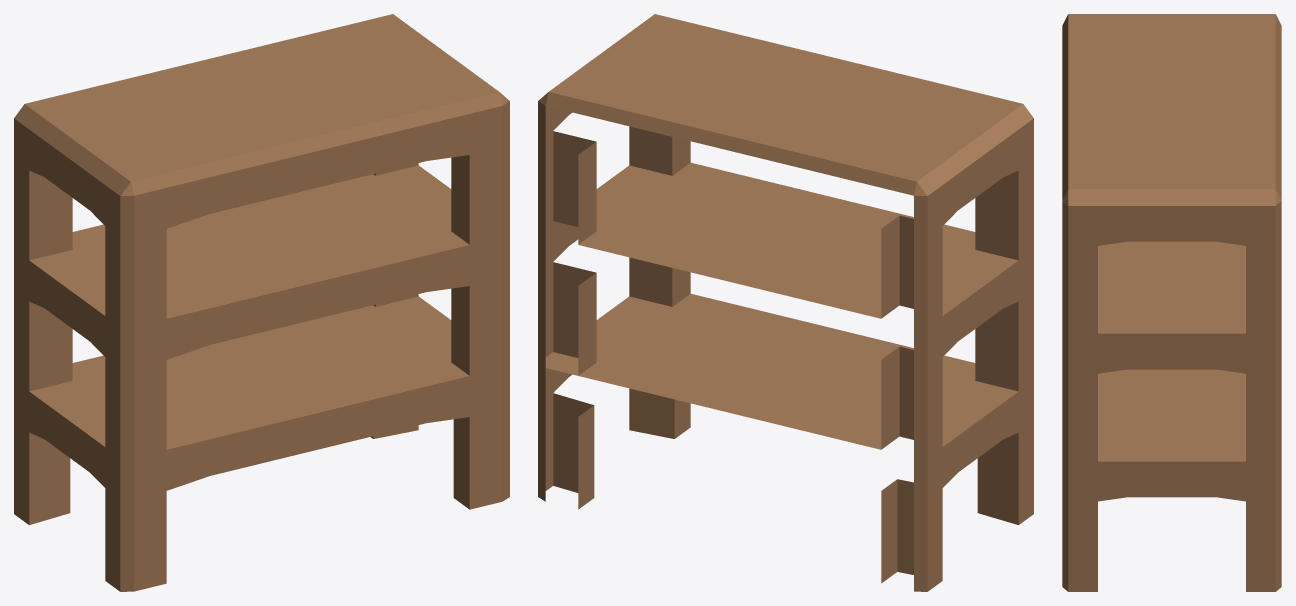
File: Shelf.fbx
3 views of the same model, side by side, from view 1: azimuth 30°, elevation 25°; view 2: azimuth 150°, elevation 25°; view 3: azimuth 270°, elevation 25° (orthographic). The views are drawn at different scales.
Parts seen in each view (by area): view 1: New Shelf; view 2: New Shelf; view 3: New Shelf.
Part boxes in pixels (<box>): New Shelf: <box>14,14,509,591</box>; New Shelf: <box>538,14,1033,591</box>; New Shelf: <box>1062,14,1281,591</box>.
Bounding box in the file's own units: 200 × 200 × 100.
